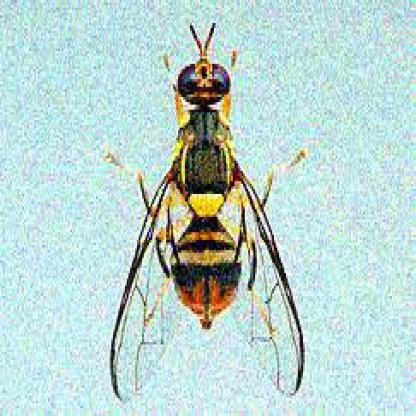fruit fly: (111, 26, 303, 404)
